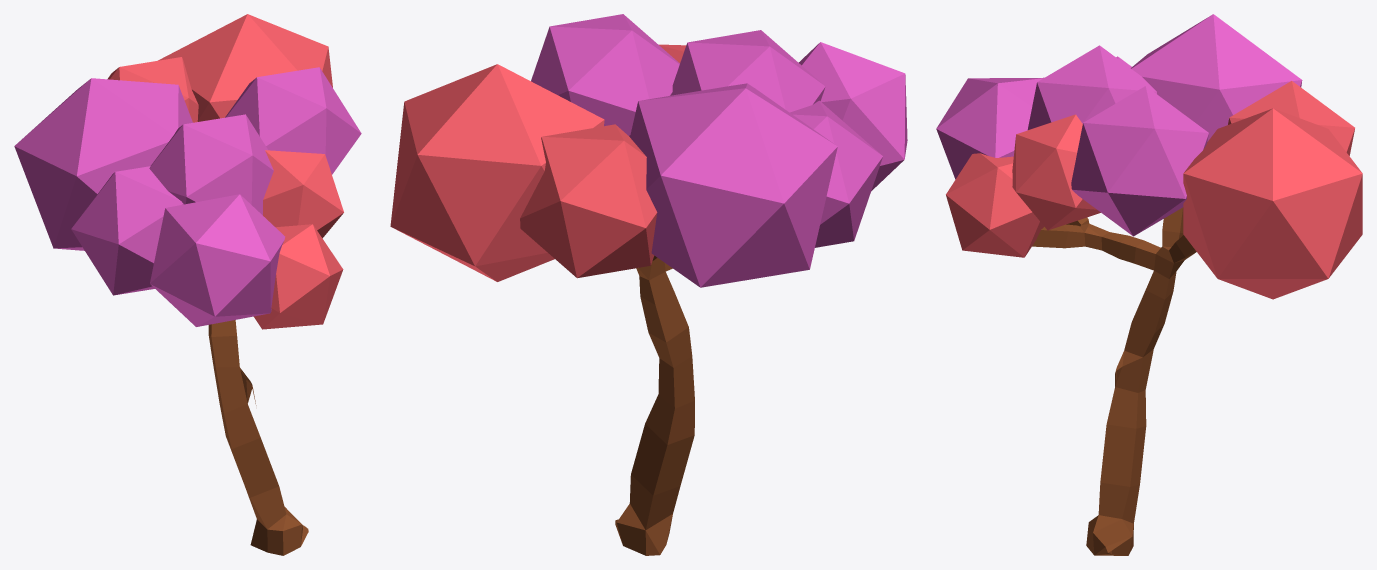
File: cherryTree2.gltf
The picture shows the model from 3 angles, left to right: view 1: azimuth 30°, elevation 25°; view 2: azimuth 150°, elevation 25°; view 3: azimuth 270°, elevation 25°; orthographic projection. The views are drawn at different scales.
Parts seen in each view (by area): view 1: Icosphere.001, Icosphere.002, Icosphere, Icosphere.008, Icosphere.003, Cube, Icosphere.005, Icosphere.004, Icosphere.007, Icosphere.006; view 2: Icosphere.001, Icosphere, Icosphere.006, Cube, Icosphere.005, Icosphere.002, Icosphere.003, Icosphere.008; view 3: Icosphere, Cube, Icosphere.005, Icosphere.001, Icosphere.004, Icosphere.002, Icosphere.007, Icosphere.003, Icosphere.006.
Part boxes in pixels (x1,y1,x2,y2): Icosphere.001: (14, 78, 192, 250); Icosphere.002: (150, 194, 285, 326); Icosphere: (158, 14, 332, 121); Icosphere.008: (71, 166, 183, 295); Icosphere.003: (149, 114, 273, 215); Cube: (208, 320, 308, 555); Icosphere.005: (225, 67, 361, 174); Icosphere.004: (254, 224, 343, 329); Icosphere.007: (263, 150, 343, 238); Icosphere.006: (107, 57, 198, 122); Icosphere.001: (630, 83, 837, 287); Icosphere: (390, 64, 604, 281); Icosphere.006: (520, 124, 657, 278); Cube: (615, 255, 694, 555); Icosphere.005: (531, 14, 679, 136); Icosphere.002: (798, 42, 907, 190); Icosphere.003: (671, 30, 825, 112); Icosphere.008: (790, 100, 882, 247); Icosphere: (1183, 108, 1362, 299); Cube: (1032, 207, 1196, 555); Icosphere.005: (1071, 86, 1208, 236); Icosphere.001: (1131, 14, 1302, 141); Icosphere.004: (946, 153, 1044, 257); Icosphere.002: (936, 77, 1044, 179); Icosphere.007: (1012, 114, 1100, 230); Icosphere.003: (1027, 45, 1156, 129); Icosphere.006: (1228, 81, 1354, 155).
Size of the model in its own units: 3.56 by 4.92 by 4.04.
